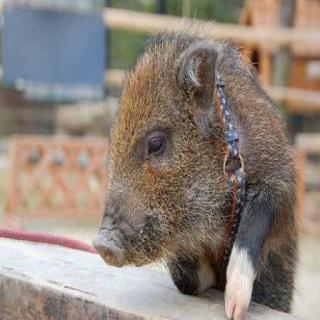Pig: (94, 15, 312, 317)
